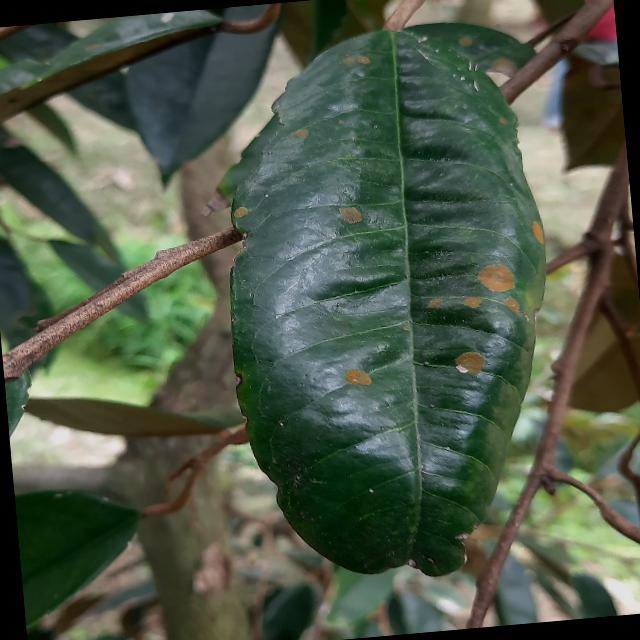Algal Leaf Spot: (208, 13, 576, 594)
